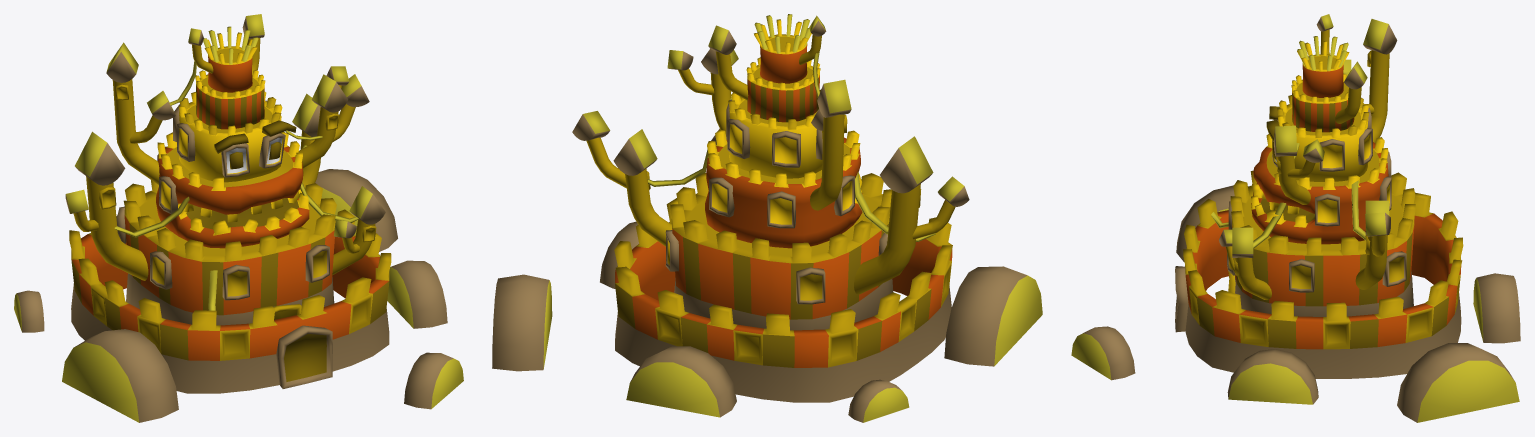
File: castelo.dae
The picture shows the model from 3 angles, left to right: view 1: azimuth 30°, elevation 25°; view 2: azimuth 150°, elevation 25°; view 3: azimuth 270°, elevation 25°; orthographic projection. The views are drawn at different scales.
Visible parts, largest first — view 1: muro, cabeca, torres, base, arredores; view 2: muro, cabeca, arredores, base, torres; view 3: muro, arredores, cabeca, base, torres.
Boxes of the visible parts, left/top/right/bottom form: muro: left=69, top=196, right=391, bottom=393; cabeca: left=156, top=26, right=309, bottom=248; torres: left=65, top=14, right=385, bottom=310; base: left=117, top=176, right=336, bottom=325; arredores: left=14, top=169, right=463, bottom=422; muro: left=614, top=198, right=952, bottom=402; cabeca: left=705, top=14, right=862, bottom=248; arredores: left=492, top=221, right=1042, bottom=422; base: left=665, top=172, right=893, bottom=330; torres: left=572, top=15, right=969, bottom=294; muro: left=1175, top=192, right=1463, bottom=378; arredores: left=1071, top=185, right=1520, bottom=422; cabeca: left=1251, top=36, right=1391, bottom=244; base: left=1227, top=170, right=1415, bottom=316; torres: left=1211, top=14, right=1397, bottom=299.
Bounding box in the file's own units: 9.56 × 9.75 × 7.01.
